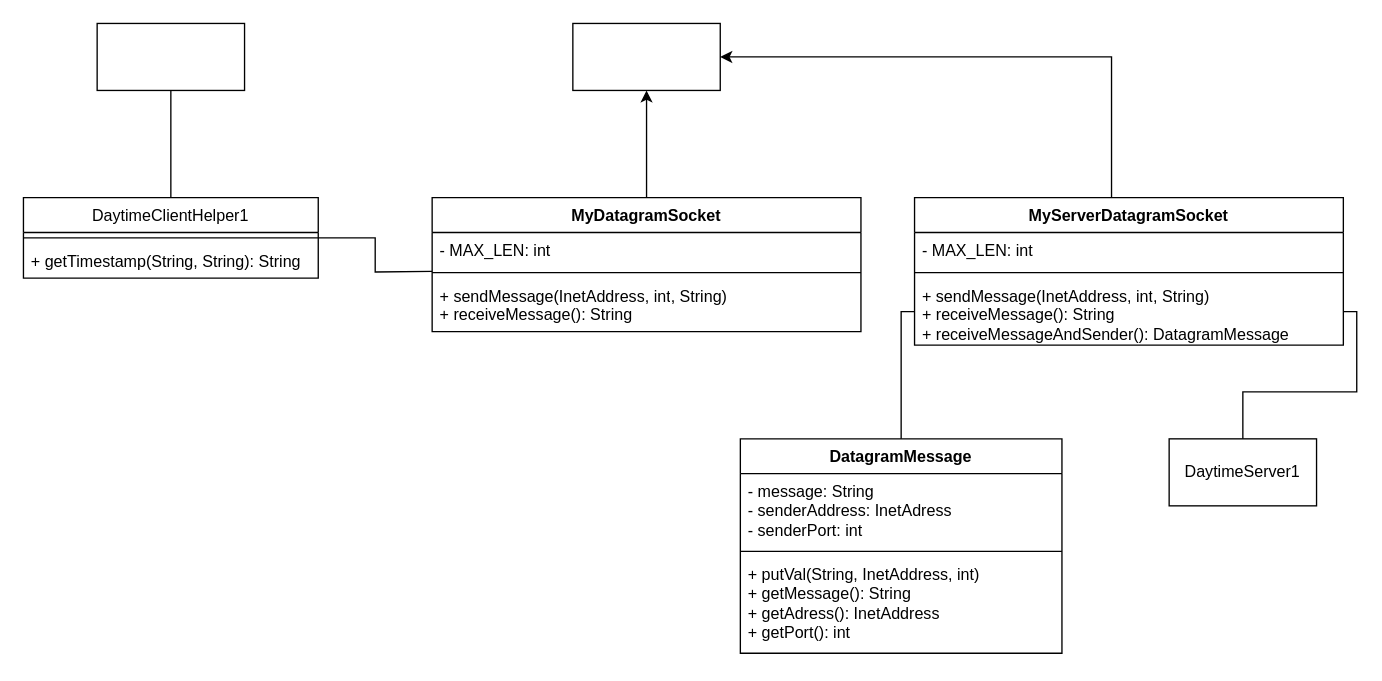
This 1382x681 diagram has some shape labels left out. Each missing label, with the centre of its shape:
DatagramSocket: the point at 646,56
DaytimeClient1: the point at 170,56
